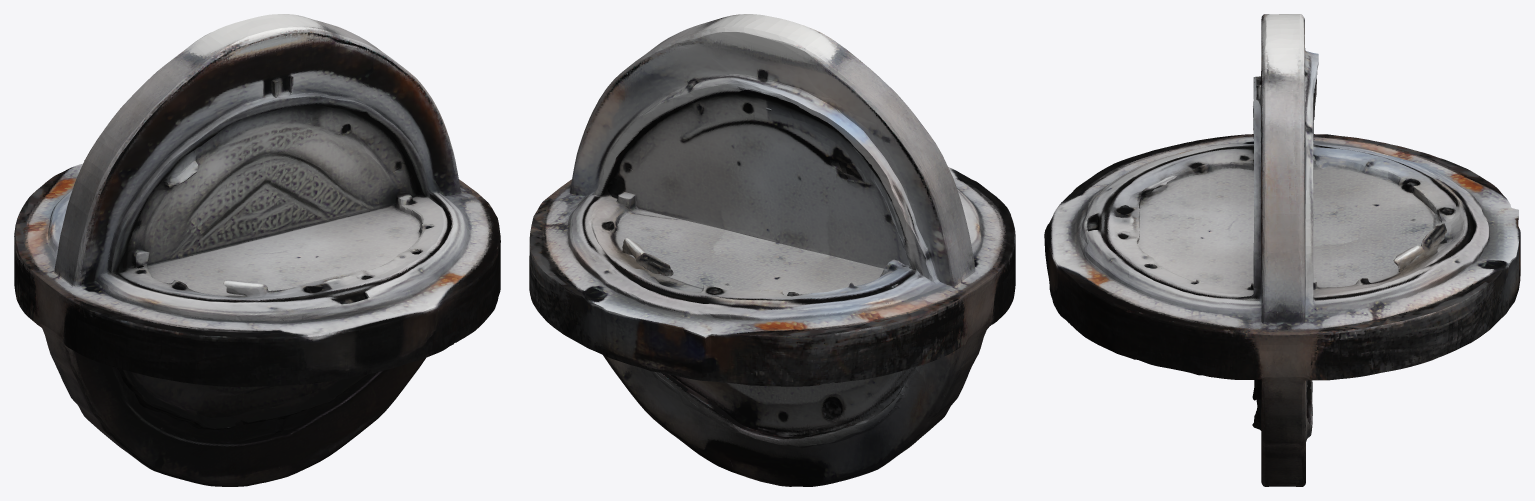
File: manhole_cover_42_20251230_114039_20251230_120249.glb
3 renders of one model, left to right at view 1: azimuth 30°, elevation 25°; view 2: azimuth 150°, elevation 25°; view 3: azimuth 270°, elevation 25°, orthographic. The views are drawn at different scales.
Parts seen in each view (by area): view 1: world; view 2: world; view 3: world.
Part boxes in pixels (x1=…): world: x1=14, y1=14, x2=500, y2=486; world: x1=529, y1=14, x2=1015, y2=486; world: x1=1044, y1=14, x2=1520, y2=486.
Bounding box in the file's own units: 0.9686 × 0.9988 × 0.9781.
Materials: 1 (1 with a texture image).
